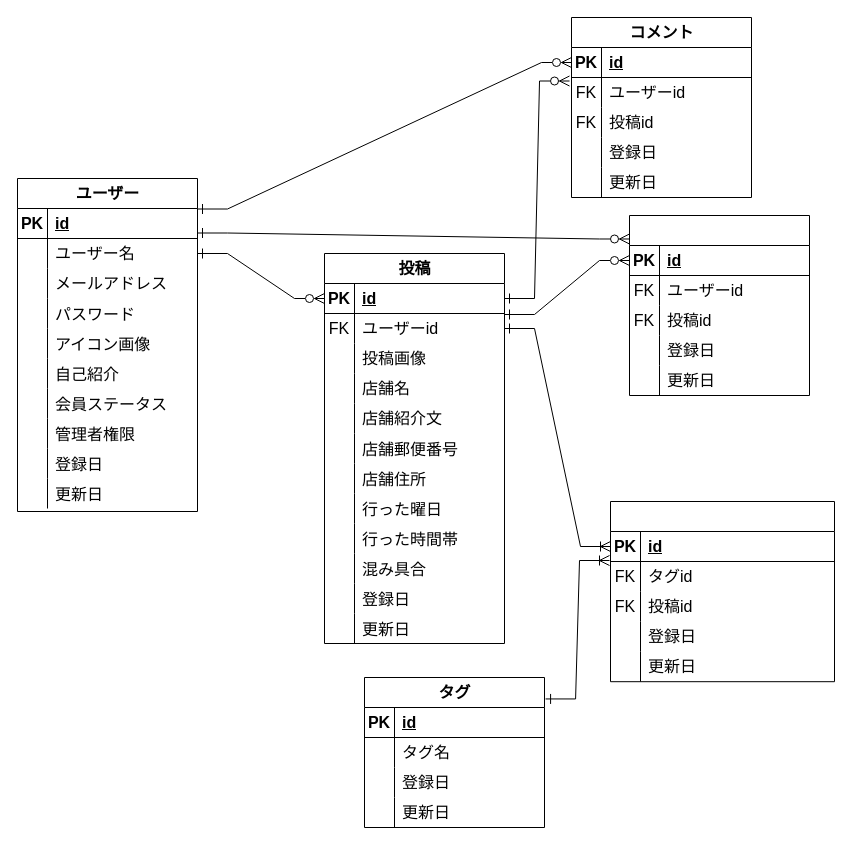
Image size: 852x845. Some labels were removed from this diagram. Here are the shapes that lost their labels. From the top down, the box of each, then its label:
(628, 214, 810, 396): いいね
(610, 500, 834, 682): 投稿タグ（中間テーブル）
